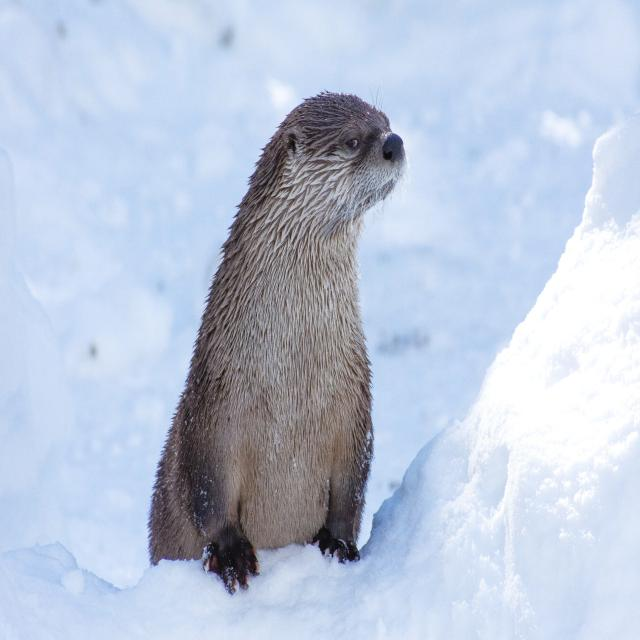Otter: (149, 87, 408, 578)
